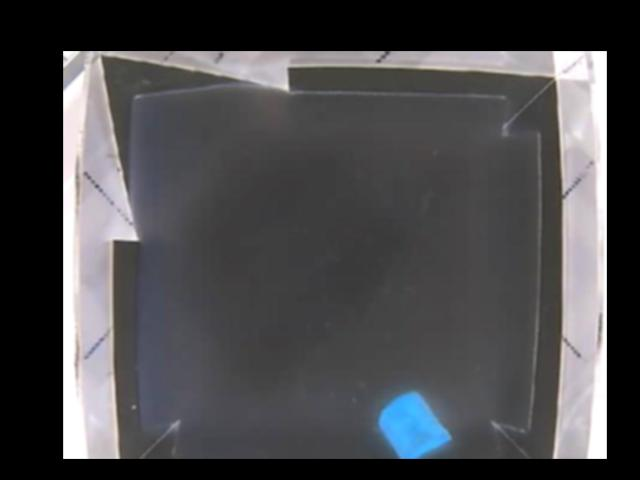Carrot: (377, 390, 453, 458)
